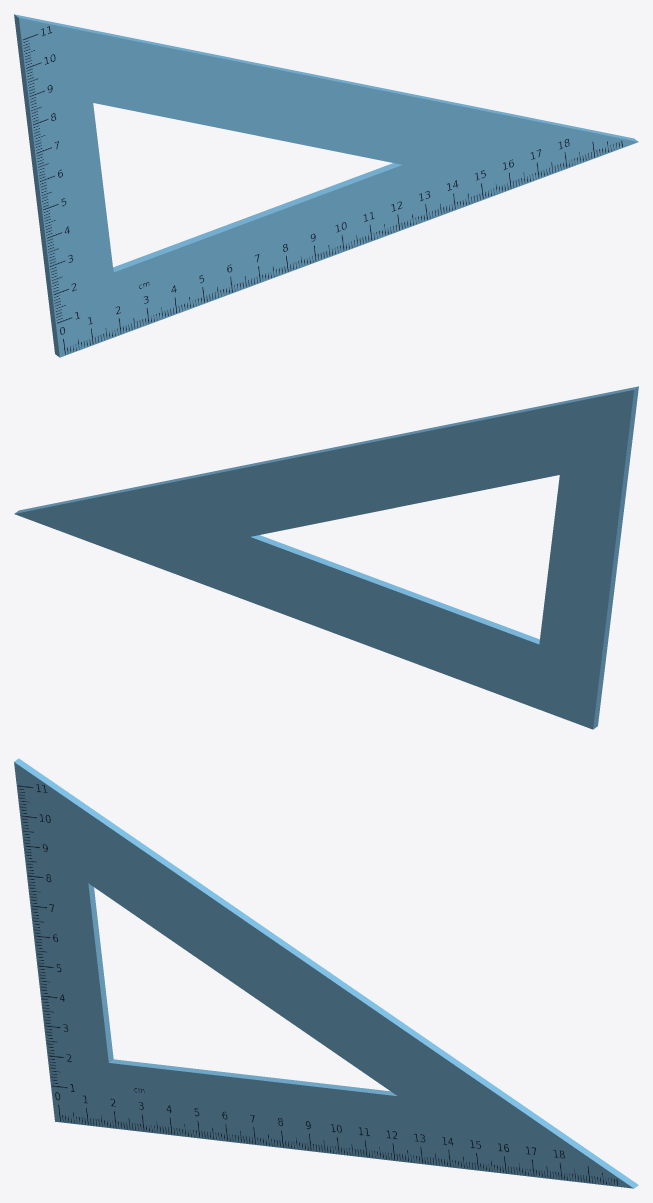
File: SetSquare.fbx
3 renders of one model, top to bottom at view 1: azimuth 30°, elevation 25°; view 2: azimuth 150°, elevation 25°; view 3: azimuth 330°, elevation 25°, orthographic.
Parts seen in each view (by area): view 1: Triangle_Body; view 2: Triangle_Body; view 3: Triangle_Body.
Boxes of the visible parts, x1,y1,x2,y2 form: Triangle_Body: (14, 14, 638, 357); Triangle_Body: (14, 386, 638, 729); Triangle_Body: (14, 758, 638, 1188).
Size of the model in its own units: 0.2209 by 0.1191 by 0.003.
1 material, 1 textured.
